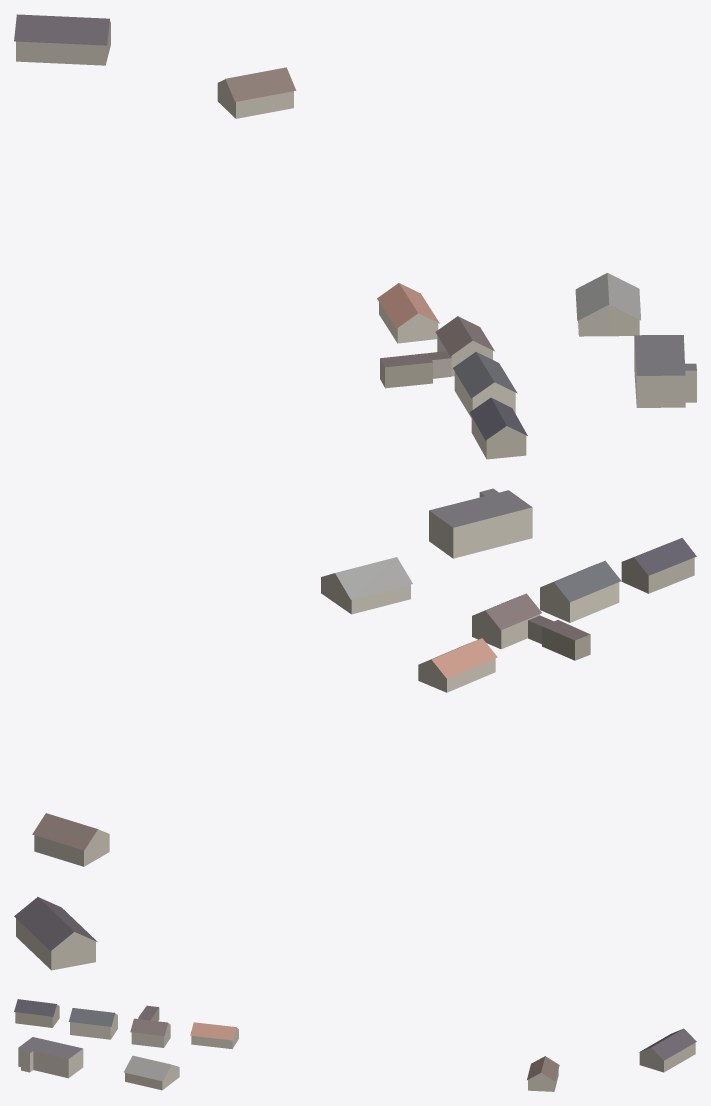
3 views of the same model, one above another, from view 1: azimuth 30°, elevation 25°; view 2: azimuth 150°, elevation 25°; view 3: azimuth 270°, elevation 25° (orthographic). The views are drawn at different scales.
Visible parts, largest first — view 1: tuile; view 2: tuile; view 3: tuile.
Part boxes in pixels (x1,y1,x2,y2): tuile: (14, 14, 696, 459); tuile: (14, 488, 696, 970); tuile: (14, 999, 696, 1091).
Size of the model in its own units: 64.28 by 13.01 by 234.
